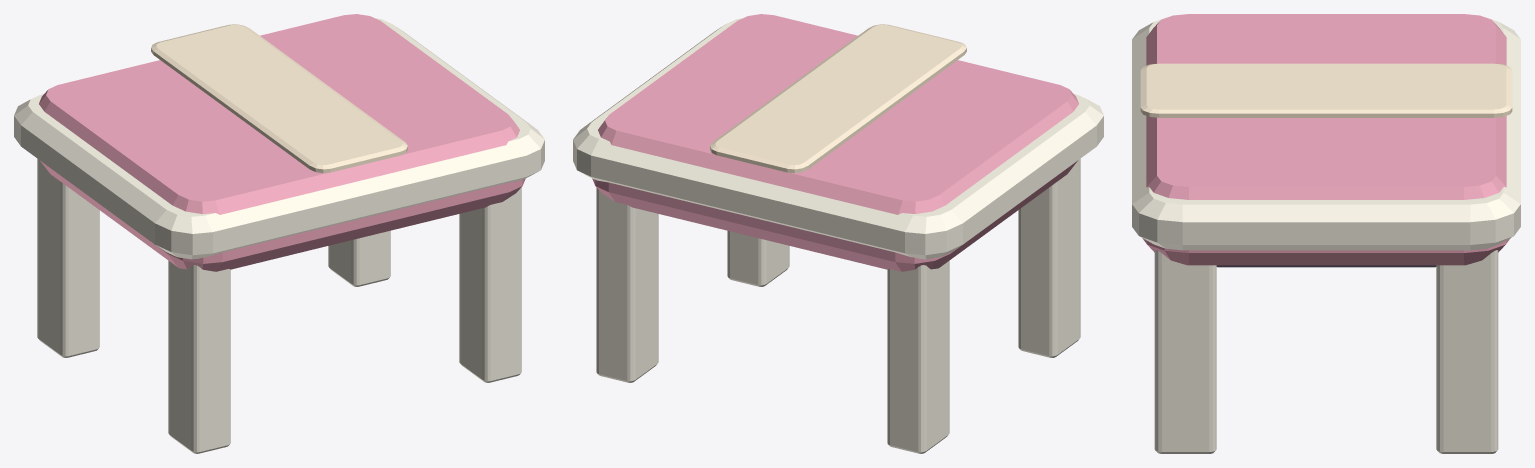
The model's file is wedding_table.glb.
The picture shows the model from 3 angles, left to right: view 1: azimuth 30°, elevation 25°; view 2: azimuth 150°, elevation 25°; view 3: azimuth 270°, elevation 25°; orthographic projection. The views are drawn at different scales.
Parts seen in each view (by area): view 1: model, leg, work_surface; view 2: model, leg, work_surface; view 3: model, leg, work_surface.
Boxes of the visible parts, box(x1,y1,x2,y2) form: model: box(39, 14, 525, 271); leg: box(37, 159, 521, 453); work_surface: box(14, 18, 544, 259); model: box(592, 14, 1078, 271); leg: box(596, 159, 1080, 453); work_surface: box(573, 18, 1103, 259); model: box(1140, 14, 1512, 267); leg: box(1154, 250, 1498, 453); work_surface: box(1132, 17, 1520, 250).
Bounding box in the file's own units: 1.1 × 0.72 × 0.9.
